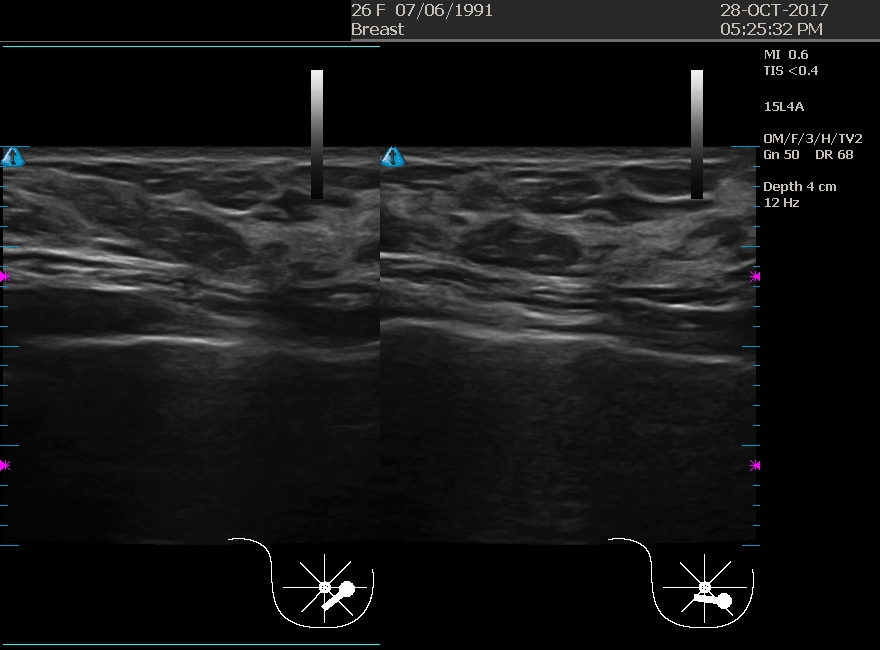BIRADS_4: (77, 163, 277, 363), (424, 164, 624, 364)
